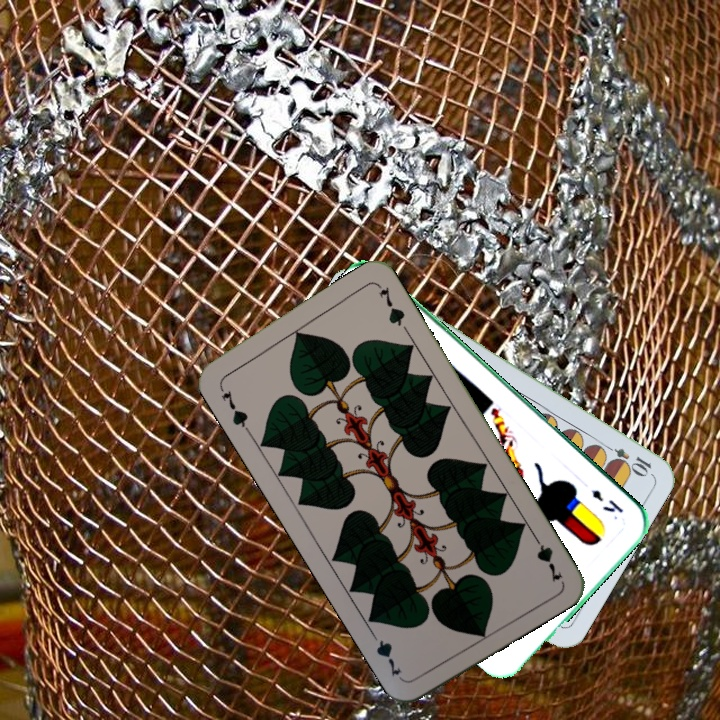E10: (598, 439, 654, 478)
EK: (588, 485, 626, 516)
G7: (528, 529, 565, 585), (215, 381, 252, 435)
